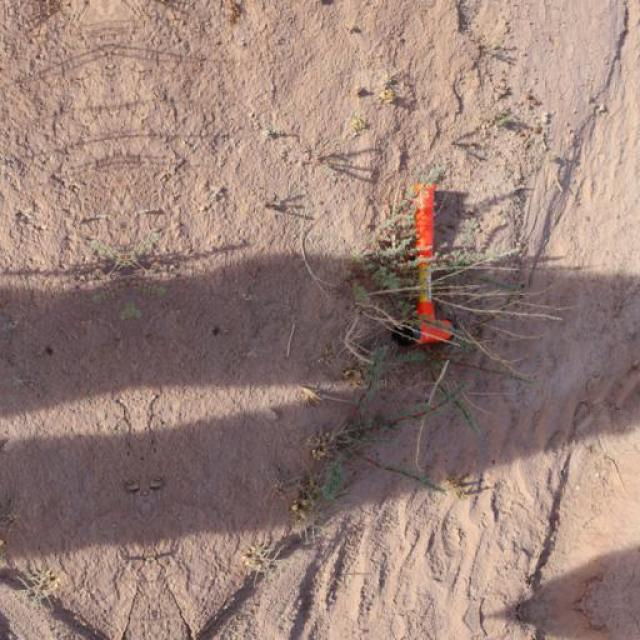mallet: (392, 178, 458, 348)
